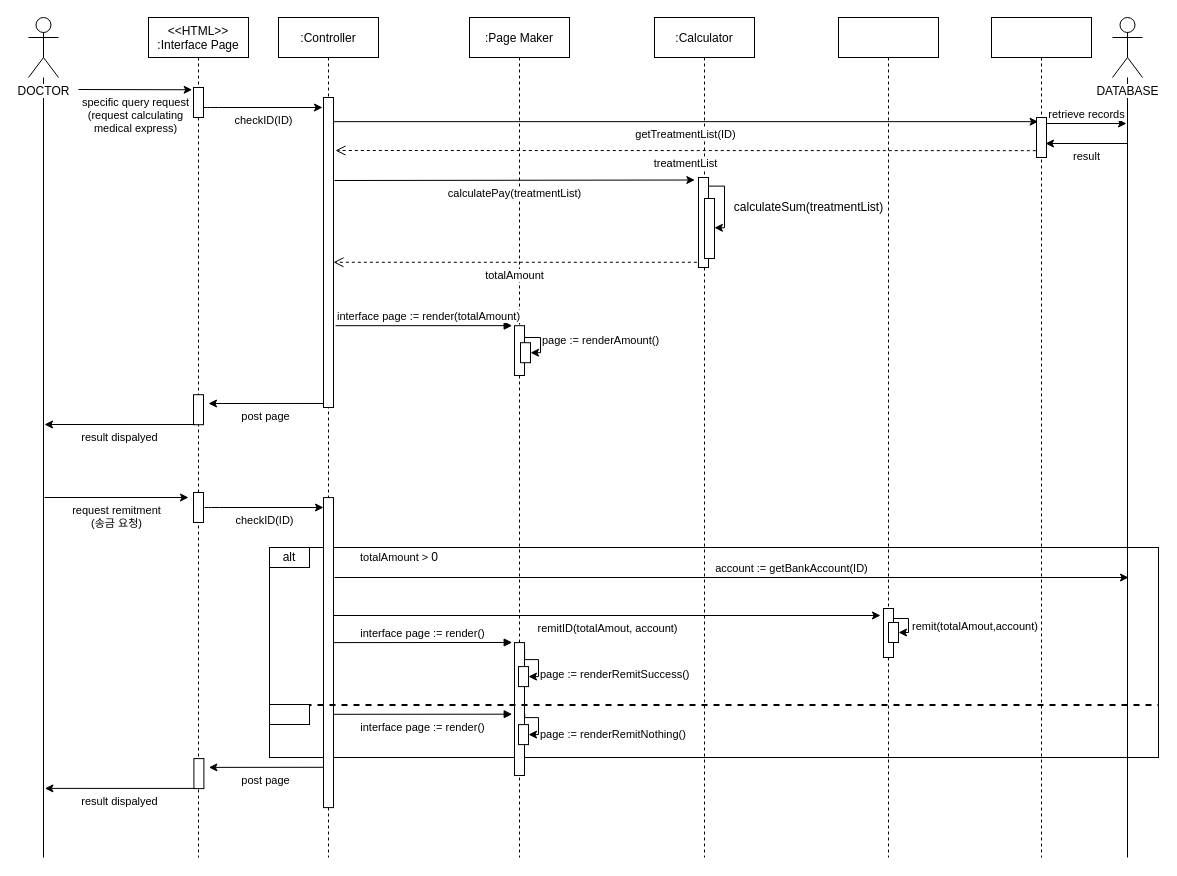
This 1177x876 diagram has some shape labels left out. The box of each missing label's shape, as (x1, y1, x2, y2) in pixels:
:Remitter: (838, 16, 938, 858)
:treatment Database Connection: (990, 16, 1092, 858)
else: (268, 704, 310, 724)
